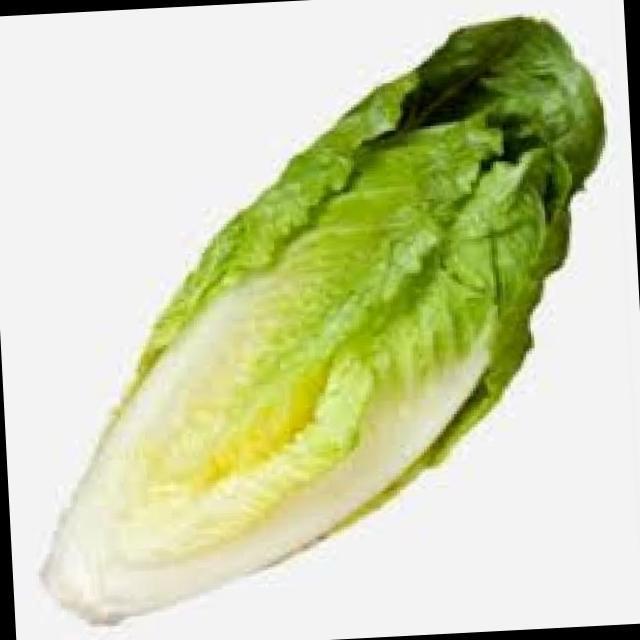Lettuce-Ready-to-Harvest: (43, 18, 603, 621)
